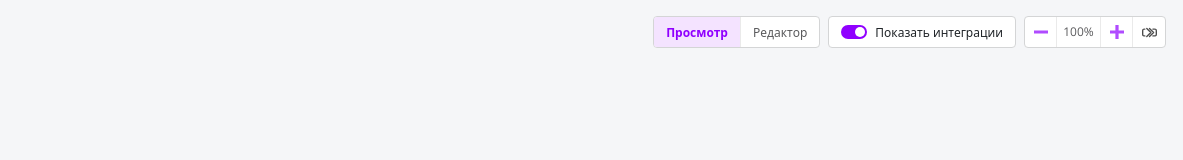
Scenario: Toolbar › потеря фокуса возвращает исходный вид и не удаляет правки
Click the button "Редактор".
click(780, 32)  # box x1=741 y1=17 x2=819 y2=47
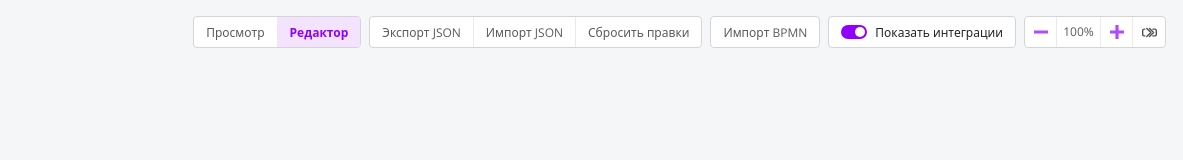
Click the button "Сбросить правки".
click(639, 32)  # box x1=576 y1=17 x2=701 y2=47
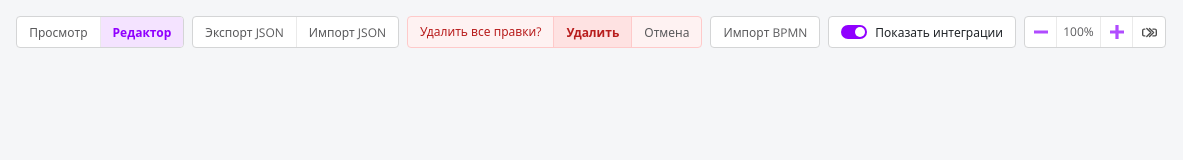
Leave the button "Удалить", box x1=553 y1=17 x2=631 y2=47
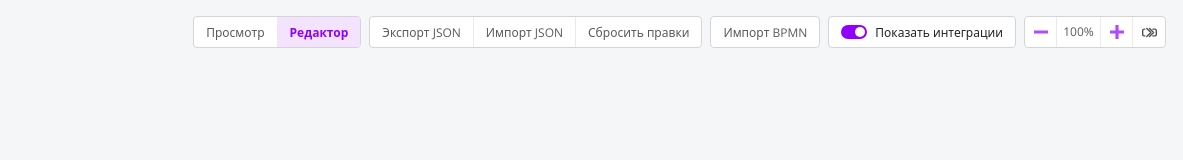
Expected: the text "Удалить все правки?" is gone
Expected: the button "Сбросить правки" is shown, x1=576 y1=17 x2=701 y2=47
